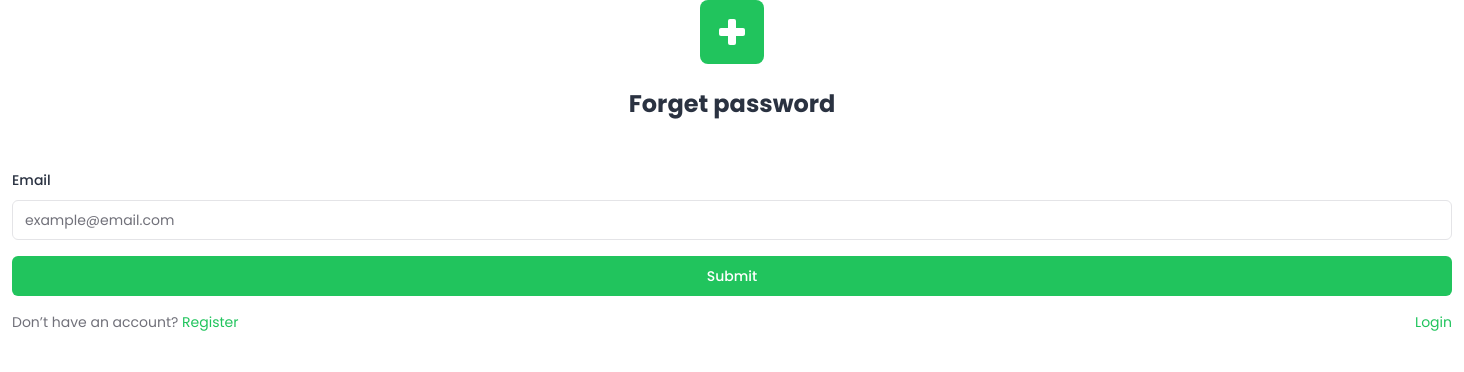
Test case: ForgetForm Component › handles server error
Note: Simulate user input and form submission
Type "unknown@example.com" into the field labelled "Email" at (732, 220), box [12,200,1452,240]
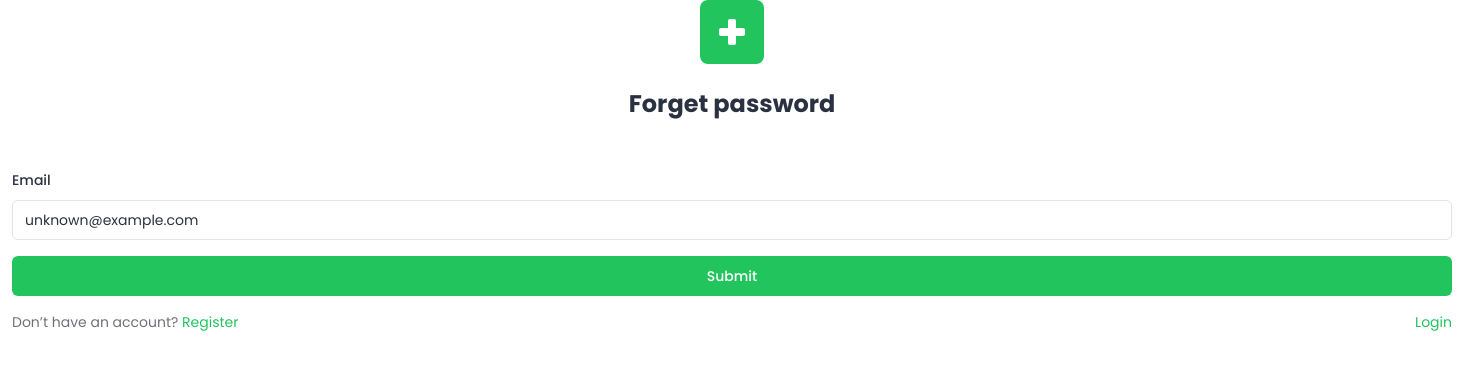
Click the button "Submit" at (732, 276), box [12,256,1452,296]
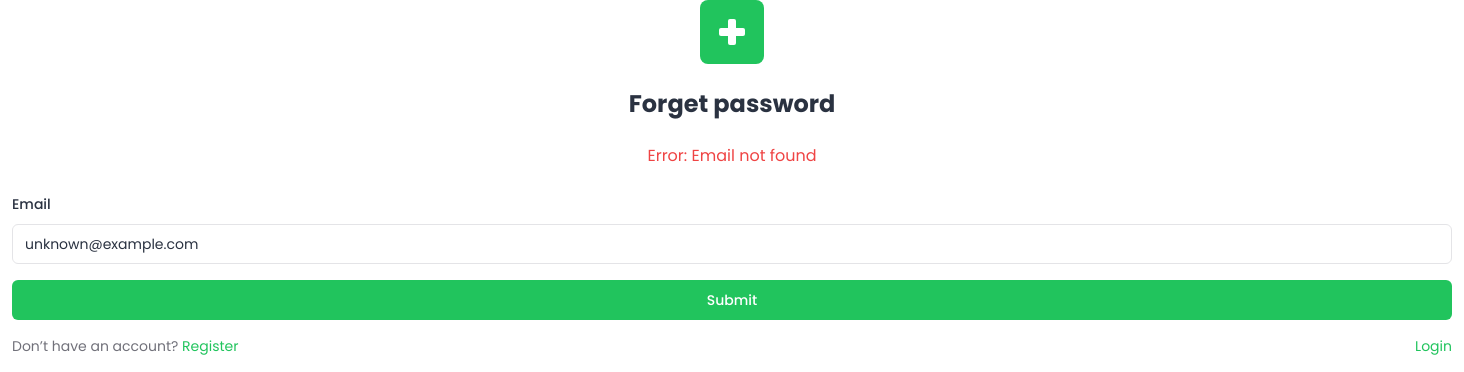
Check: the text "Error: Email not found" is shown, box [648,144,817,167]
